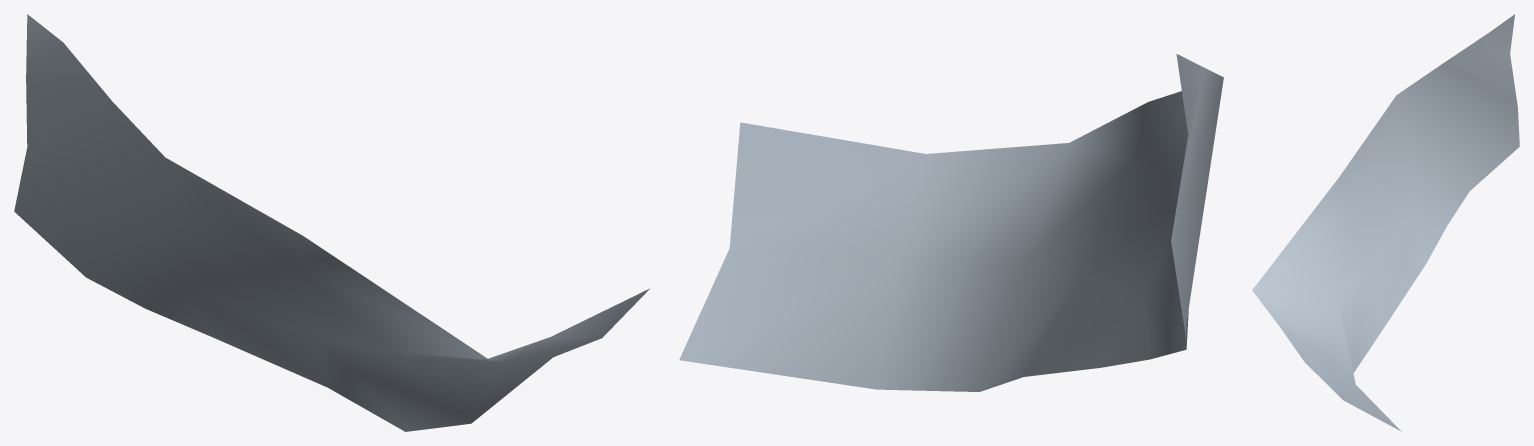
The model's file is inferior-glenohumeral-ligament-l.glb.
3 views of the same model, side by side, from view 1: azimuth 30°, elevation 25°; view 2: azimuth 150°, elevation 25°; view 3: azimuth 270°, elevation 25° (orthographic). The views are drawn at different scales.
Parts seen in each view (by area): view 1: Inferior glenohumeral ligament.l; view 2: Inferior glenohumeral ligament.l; view 3: Inferior glenohumeral ligament.l.
Part boxes in pixels (x1,y1,x2,y2): Inferior glenohumeral ligament.l: (14, 14, 649, 431); Inferior glenohumeral ligament.l: (679, 54, 1223, 391); Inferior glenohumeral ligament.l: (1252, 14, 1519, 431).
Size of the model in its own units: 0.0243 by 0.0197 by 0.0171.
